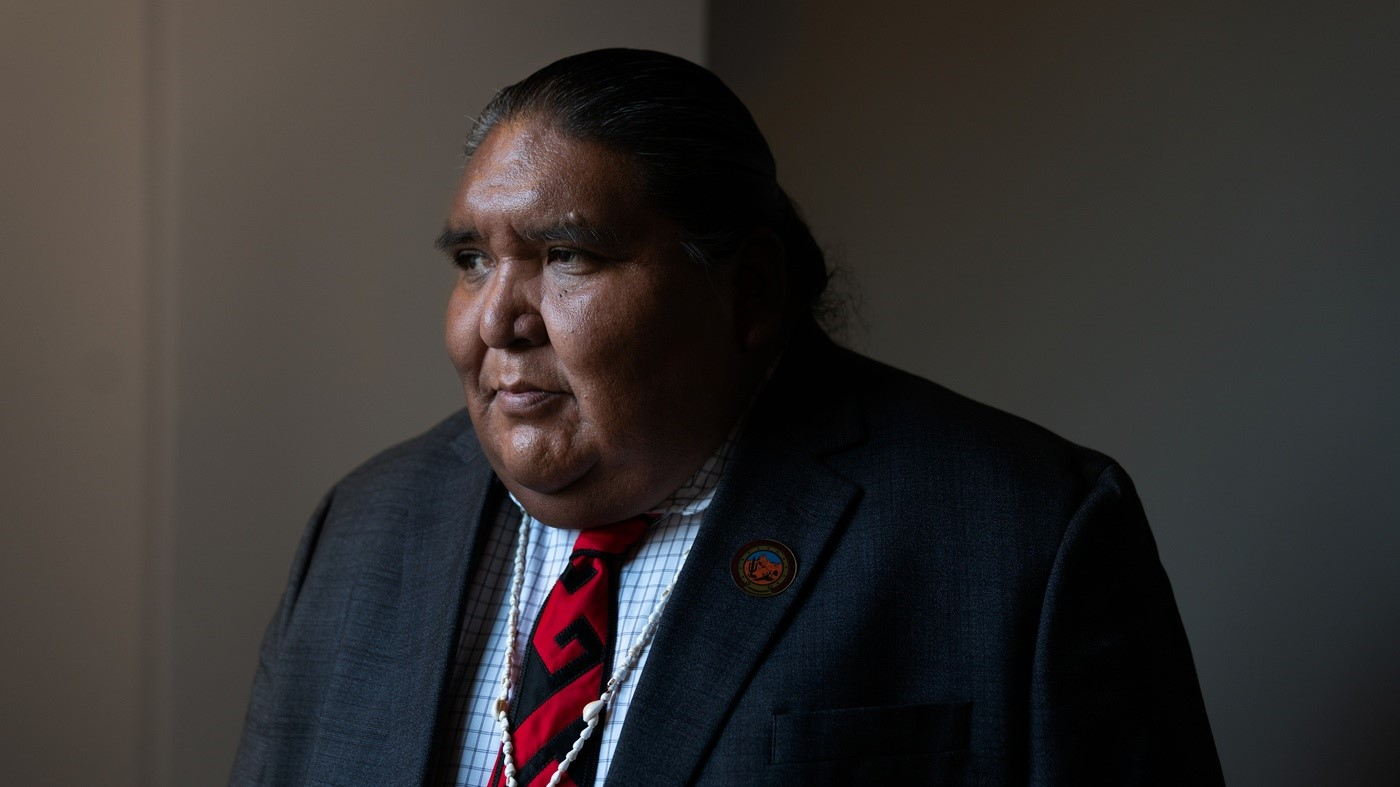face_no_mask: (434, 51, 809, 532)
